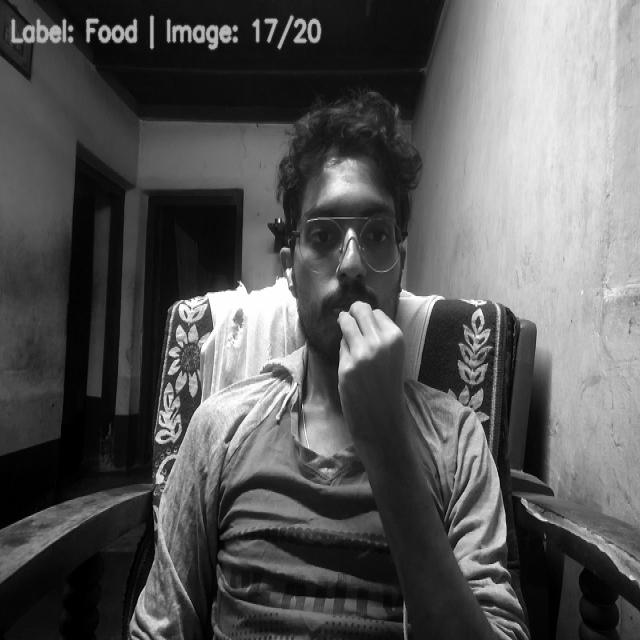Food: (333, 300, 412, 430)
